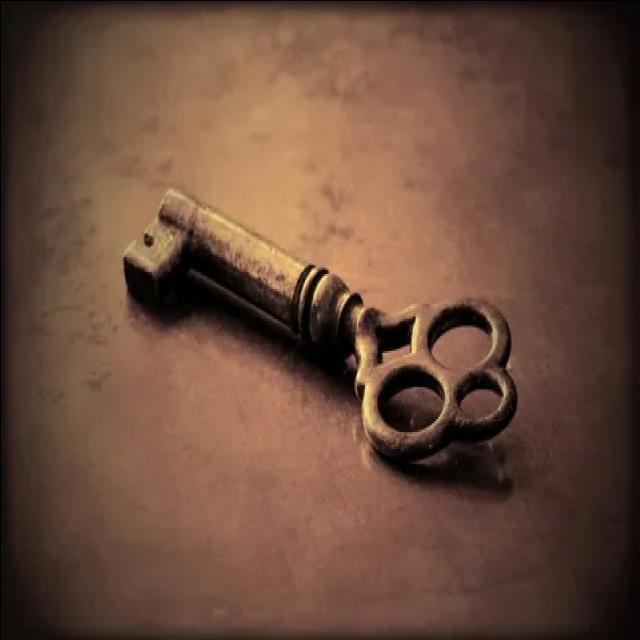key: (116, 177, 530, 485)
